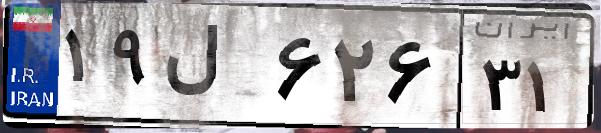1: (57, 26, 110, 100), (525, 38, 570, 115)
2: (330, 28, 385, 110)
3: (475, 38, 525, 113)
6: (270, 28, 330, 110), (385, 28, 445, 110)
9: (110, 28, 158, 98)
ل: (158, 20, 270, 120)
